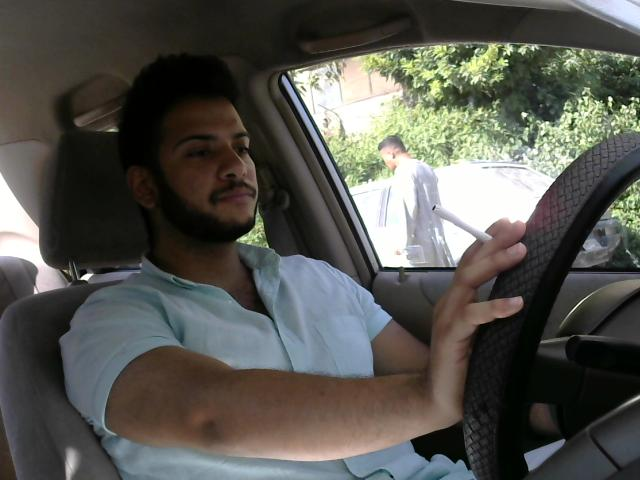Smoking: (431, 199, 502, 251)
